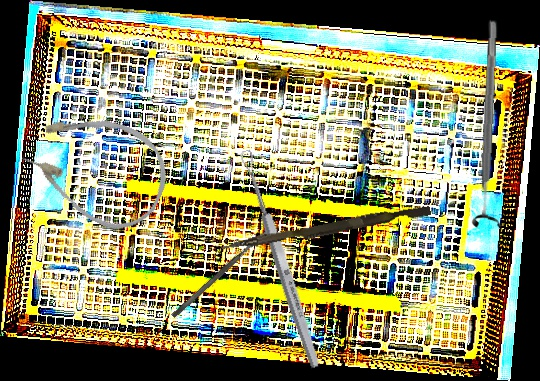Cannula: (10, 91, 182, 243)
Fixation Ring: (469, 19, 510, 229)
Pusher: (220, 200, 432, 259)
Spatula Surgical: (170, 226, 273, 319)
Surgical Spoon: (238, 148, 323, 370)
